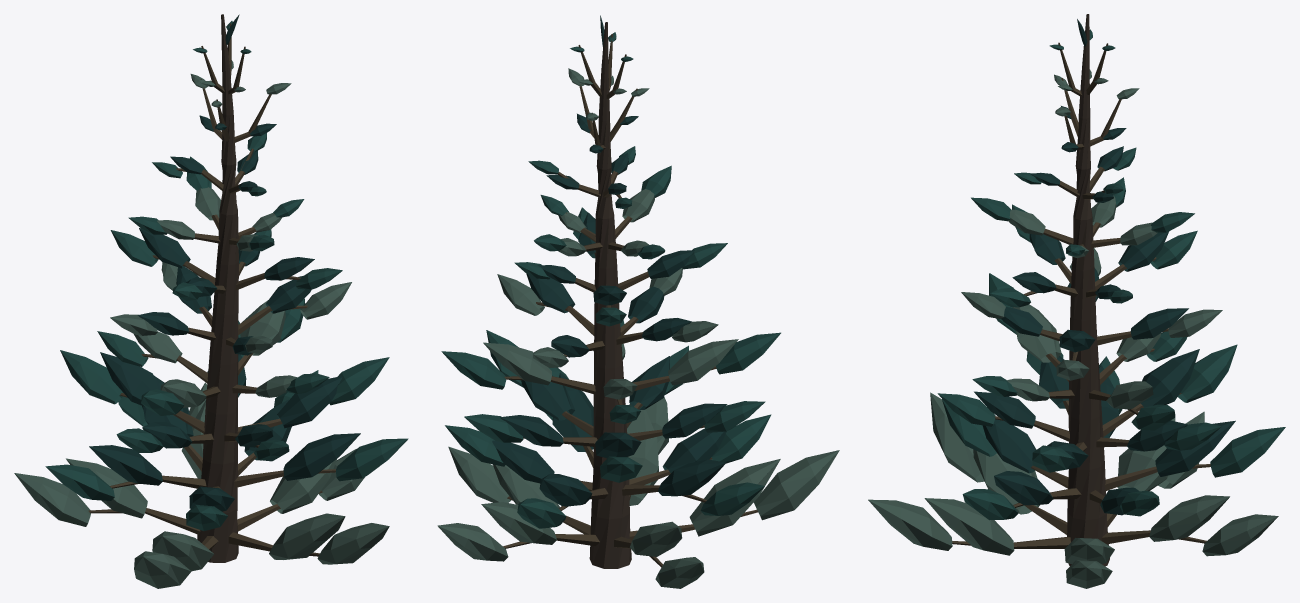
File: alpine-pine.obj
3 views of the same model, side by side, from view 1: azimuth 30°, elevation 25°; view 2: azimuth 150°, elevation 25°; view 3: azimuth 270°, elevation 25° (orthographic). The views are drawn at different scales.
Visible parts, largest first — view 1: PineNeedlesSilver, PineNeedlesDeep, PineNeedlesMid, PineBark, PineBranch; view 2: PineNeedlesSilver, PineNeedlesDeep, PineNeedlesMid, PineBark, PineBranch; view 3: PineNeedlesSilver, PineNeedlesDeep, PineNeedlesMid, PineBark, PineBranch.
Part boxes in pixels (x1,y1,x2,y2): PineNeedlesSilver: (14,60,389,588); PineNeedlesDeep: (89,14,360,511); PineNeedlesMid: (45,21,408,530); PineBark: (197,14,238,562); PineBranch: (88,23,335,556); PineNeedlesSilver: (437,68,839,588); PineNeedlesDeep: (492,15,727,506); PineNeedlesMid: (441,32,780,528); PineBark: (589,22,631,568); PineBranch: (503,34,757,567); PineNeedlesSilver: (868,69,1278,588); PineNeedlesDeep: (974,19,1235,515); PineNeedlesMid: (937,29,1285,520); PineBark: (1067,14,1109,566); PineBranch: (952,42,1210,548).
Bounding box in the file's own units: 3.59 × 5.67 × 3.9.
